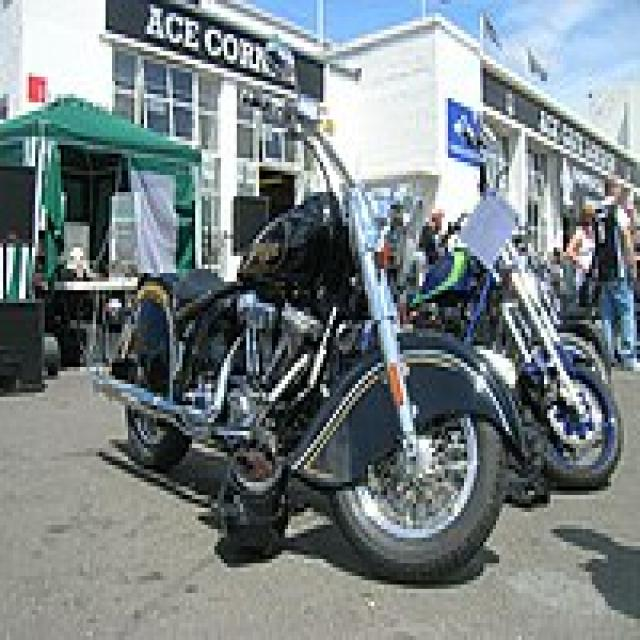motorcycle: (95, 130, 532, 581)
